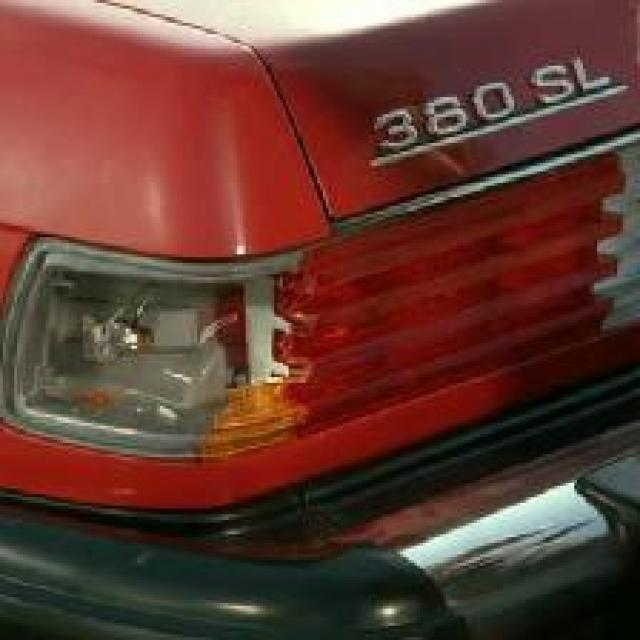damaged: (6, 228, 346, 466)
